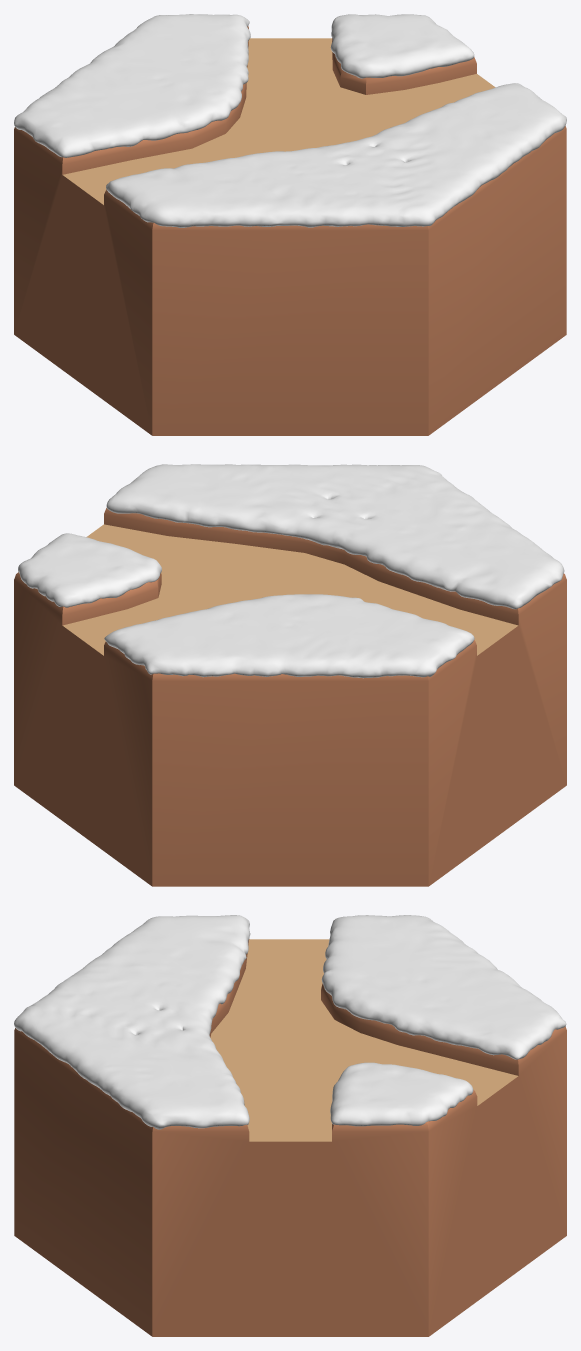
The model's file is hex_rock_roadF.fbx.
3 views of the same model, one above another, from view 1: azimuth 30°, elevation 25°; view 2: azimuth 150°, elevation 25°; view 3: azimuth 270°, elevation 25° (orthographic).
Visible parts, largest first — view 1: hex_rock_roadF.001, SnowBall.001, hex_rock_roadF; view 2: hex_rock_roadF.001, SnowBall.001, hex_rock_roadF; view 3: hex_rock_roadF.001, SnowBall.001, hex_rock_roadF.
Part boxes in pixels (left/top/right/bottom): hex_rock_roadF.001: left=14, top=26, right=566, bottom=435; SnowBall.001: left=14, top=14, right=566, bottom=227; hex_rock_roadF: left=63, top=38, right=495, bottom=204; hex_rock_roadF.001: left=14, top=508, right=566, bottom=886; SnowBall.001: left=18, top=464, right=564, bottom=678; hex_rock_roadF: left=62, top=524, right=518, bottom=655; hex_rock_roadF.001: left=14, top=939, right=566, bottom=1336; SnowBall.001: left=14, top=915, right=566, bottom=1129; hex_rock_roadF: left=210, top=939, right=517, bottom=1141.
Size of the model in its own units: 203 by 103 by 231.
